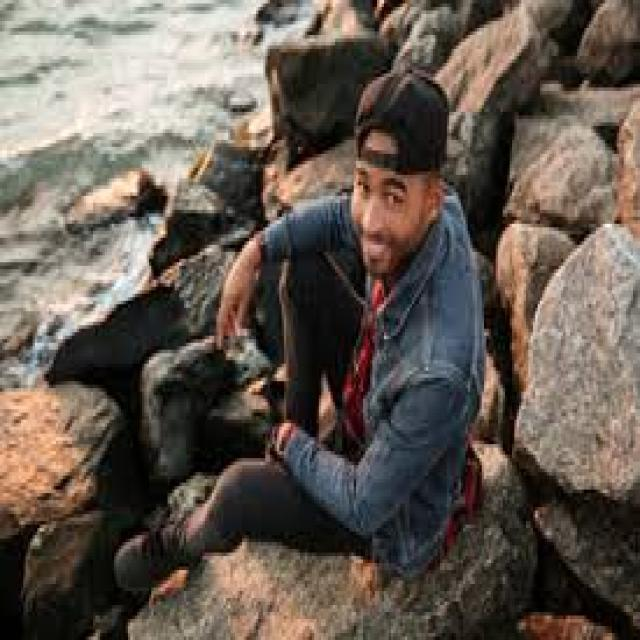cap: (347, 63, 454, 276)
